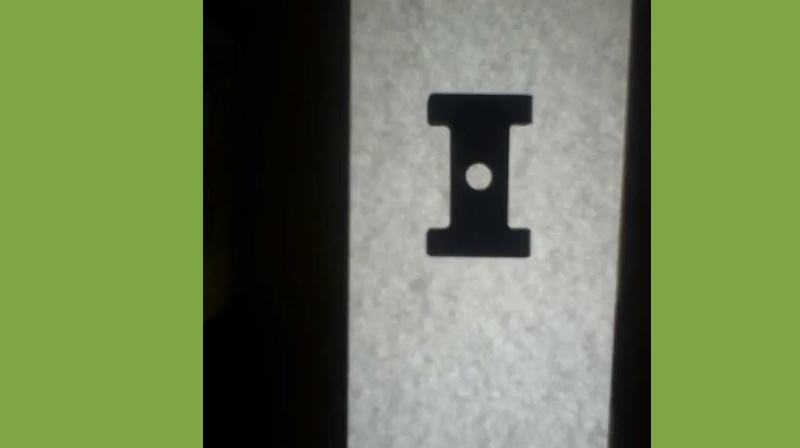O002: (423, 89, 533, 262)
